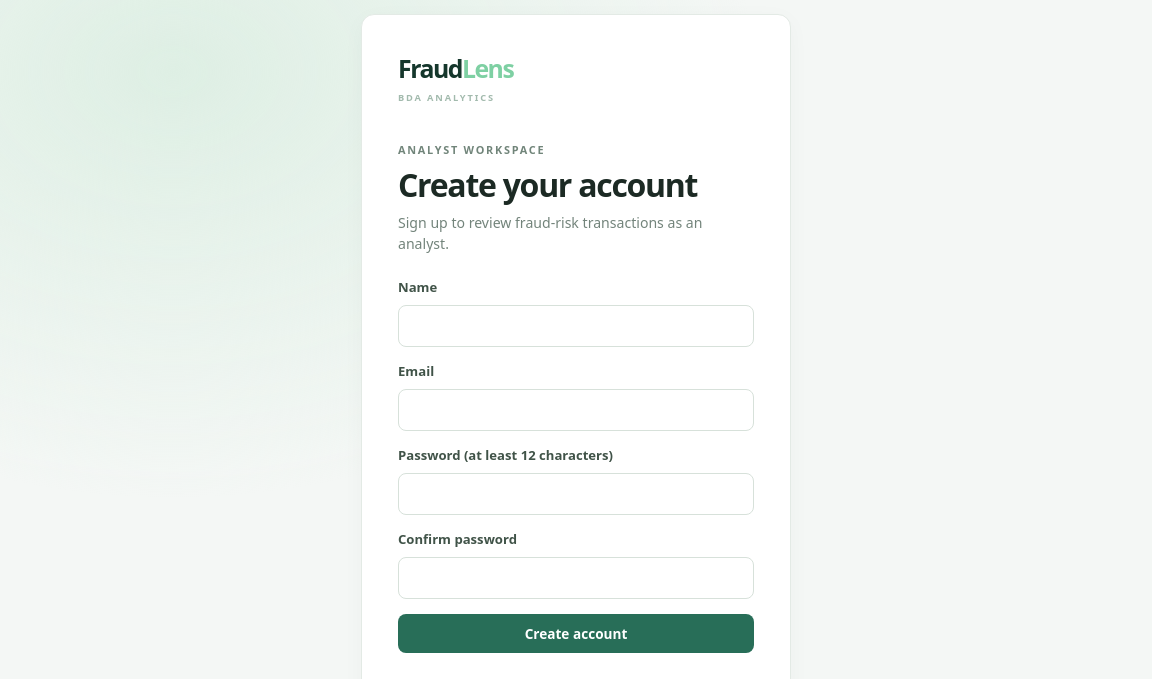
Test: signup form › validates minimum password length and confirmation
Type "Analyst" into the field labelled "Name" at x=576, y=326, box [398,305,754,347]
Type "analyst@example.test" into the field labelled "Email" at x=576, y=410, box [398,389,754,431]
Type "short" into the password field labelled "Password (at least 12 characters)" at x=576, y=494, box [398,473,754,515]
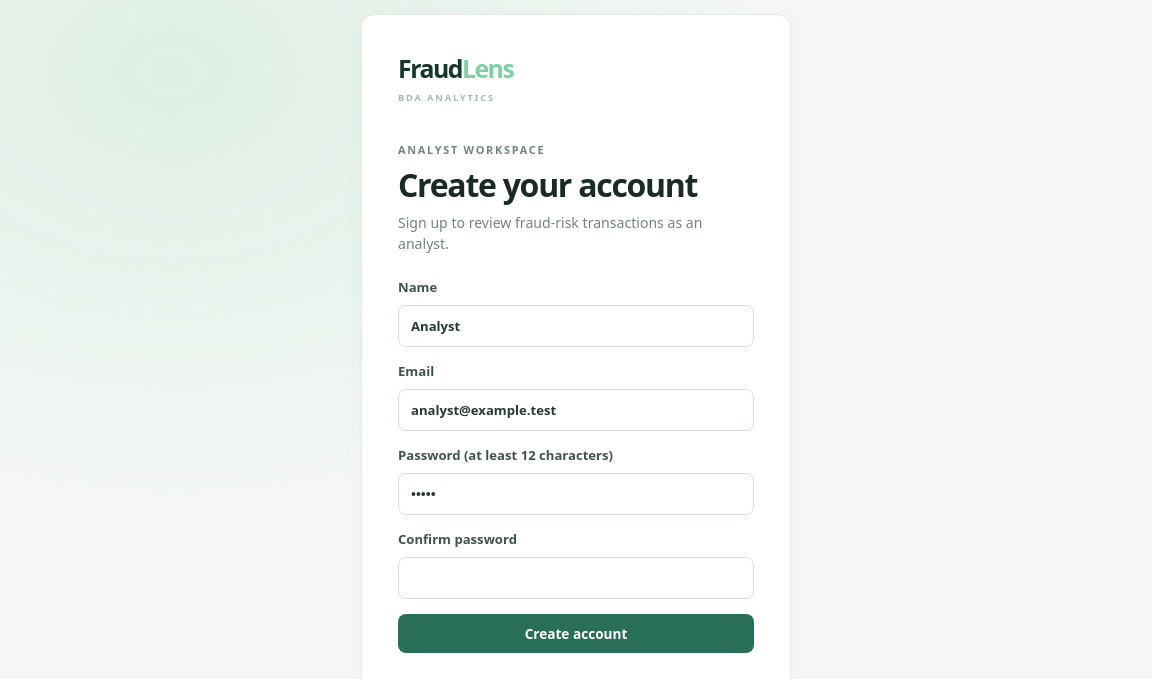
Type "short" into the password field labelled "Confirm password" at x=576, y=578, box [398,557,754,599]
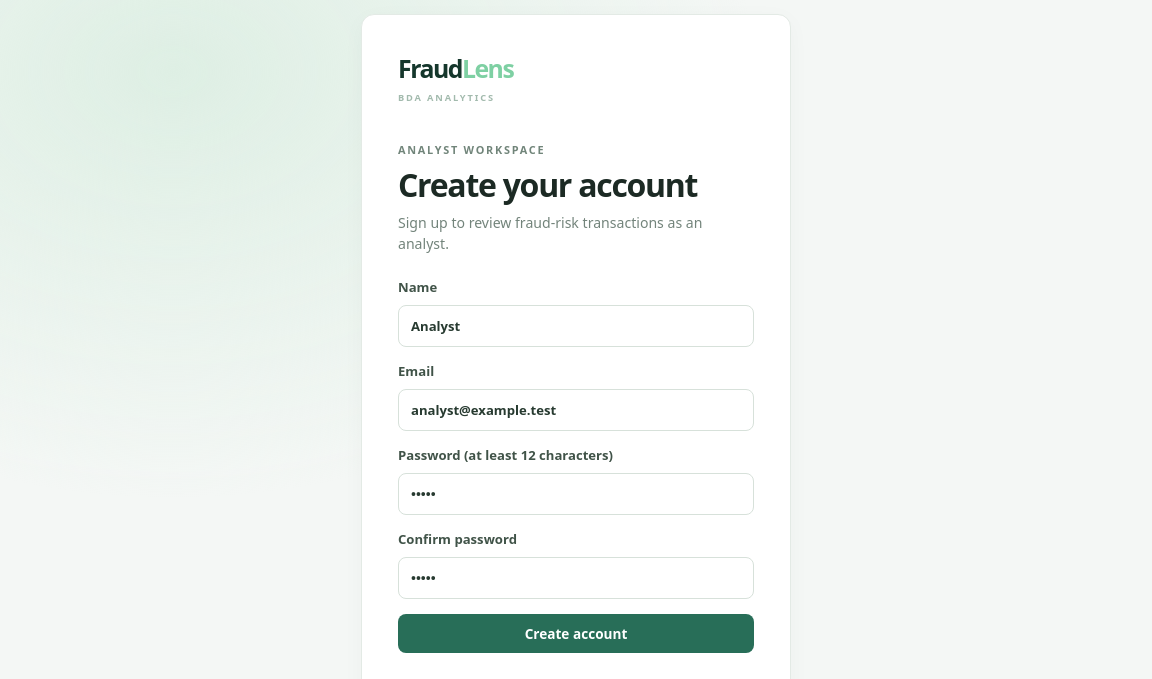
Click the button "Create account" at x=576, y=634, box [398,614,754,653]
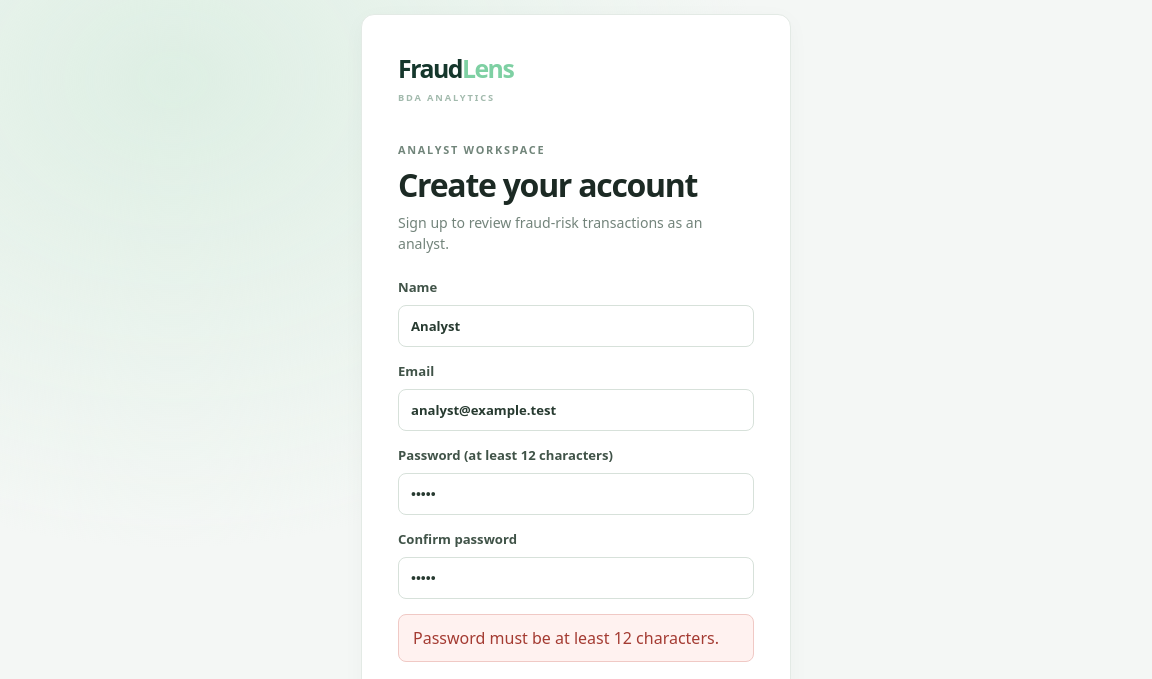
expect the message reads "Password must be at least 12 characters.": met, box [413,627,719,649]
Type "long-password-123" into the password field labelled "Password (at least 12 characters)" at x=576, y=494, box [398,473,754,515]
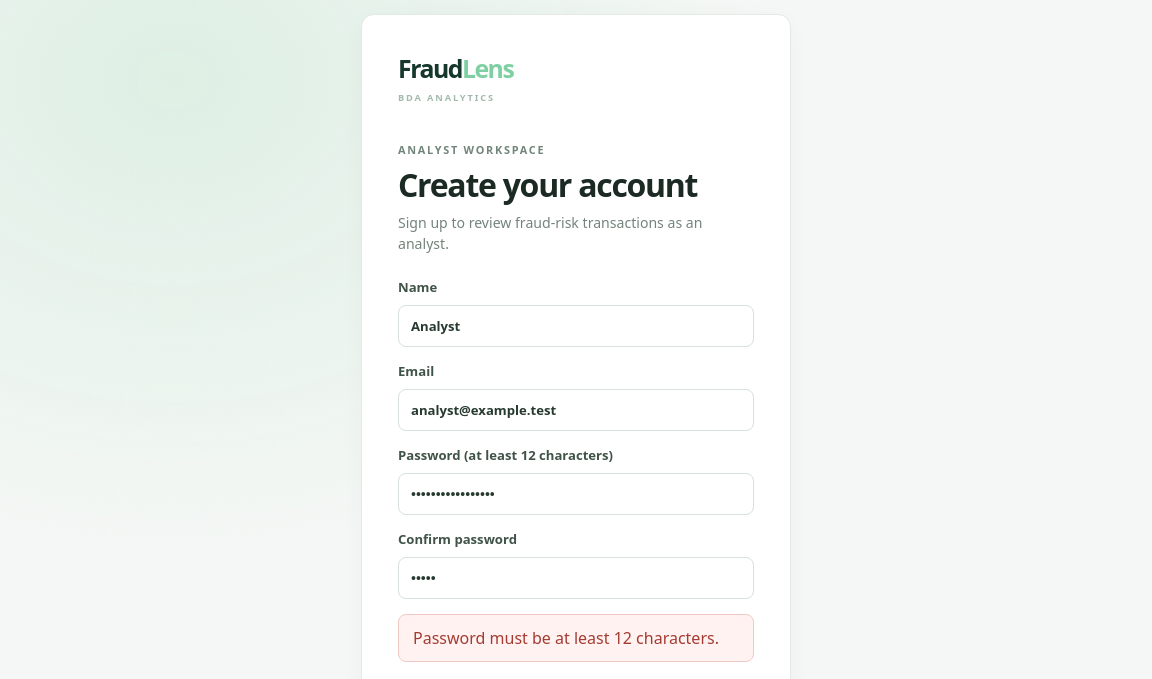
Type "different-password" into the password field labelled "Confirm password" at x=576, y=578, box [398,557,754,599]
(page scrolled)
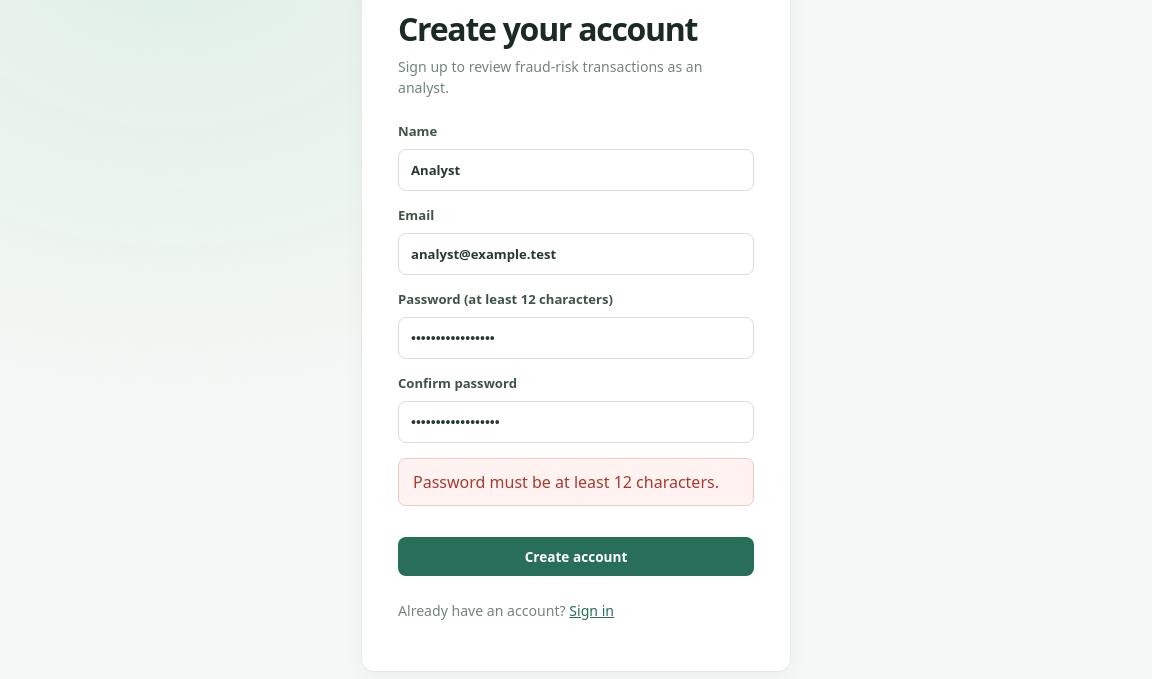
Click the button "Create account" at x=576, y=557, box [398,537,754,576]
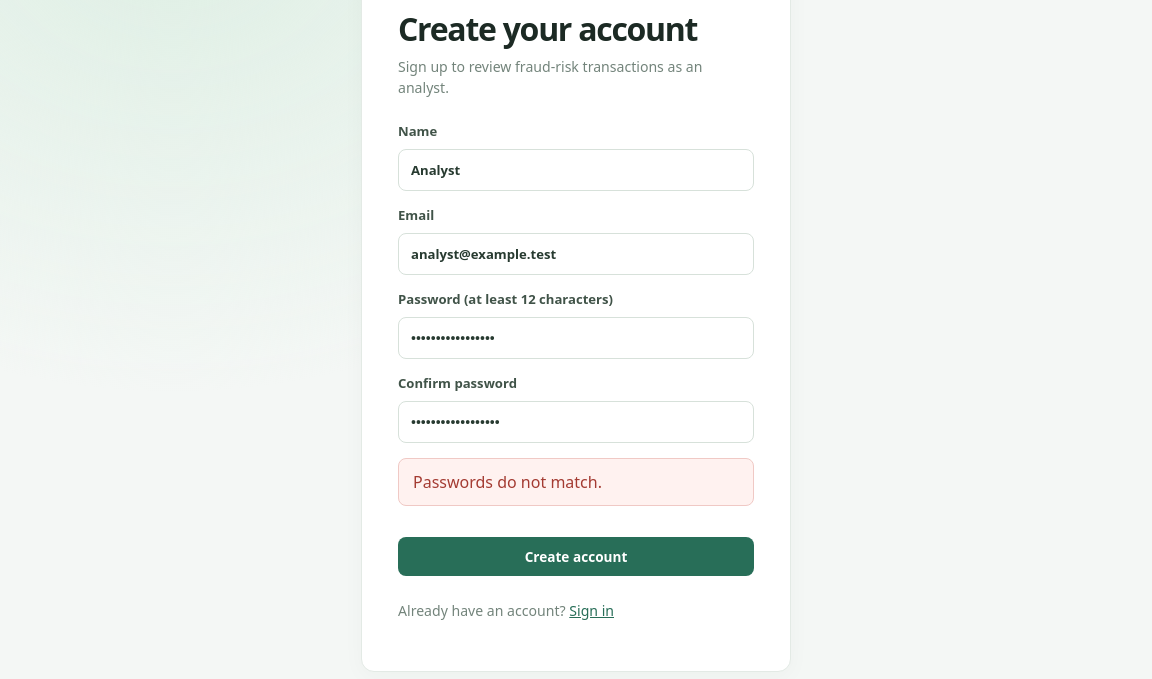
expect the message reads "Passwords do not match.": met, box [413,471,602,493]
